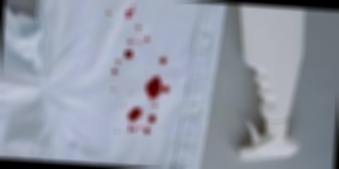blood: (127, 25, 152, 45), (145, 74, 163, 99), (126, 107, 142, 123), (128, 126, 151, 134), (125, 5, 134, 19), (124, 50, 132, 58), (159, 58, 167, 65), (149, 116, 156, 122), (110, 68, 117, 74), (114, 59, 122, 64)
